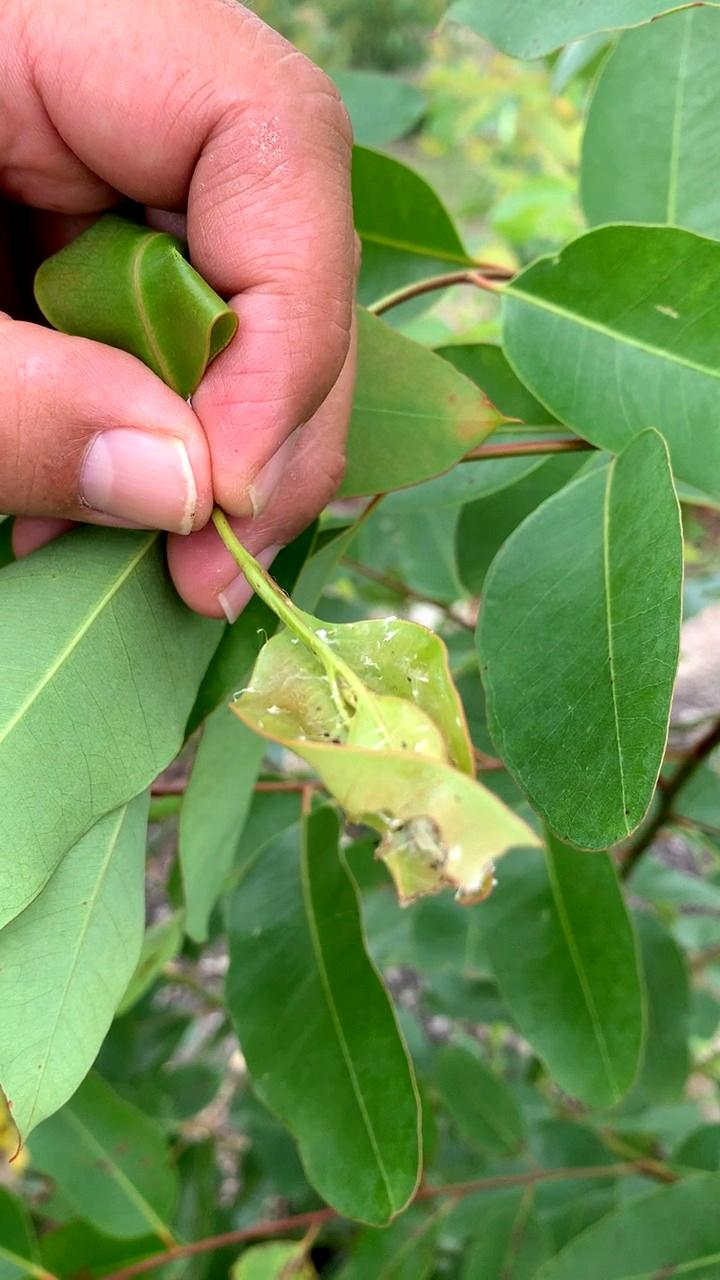Leaf Roller - Leaf: (208, 610, 561, 919)
